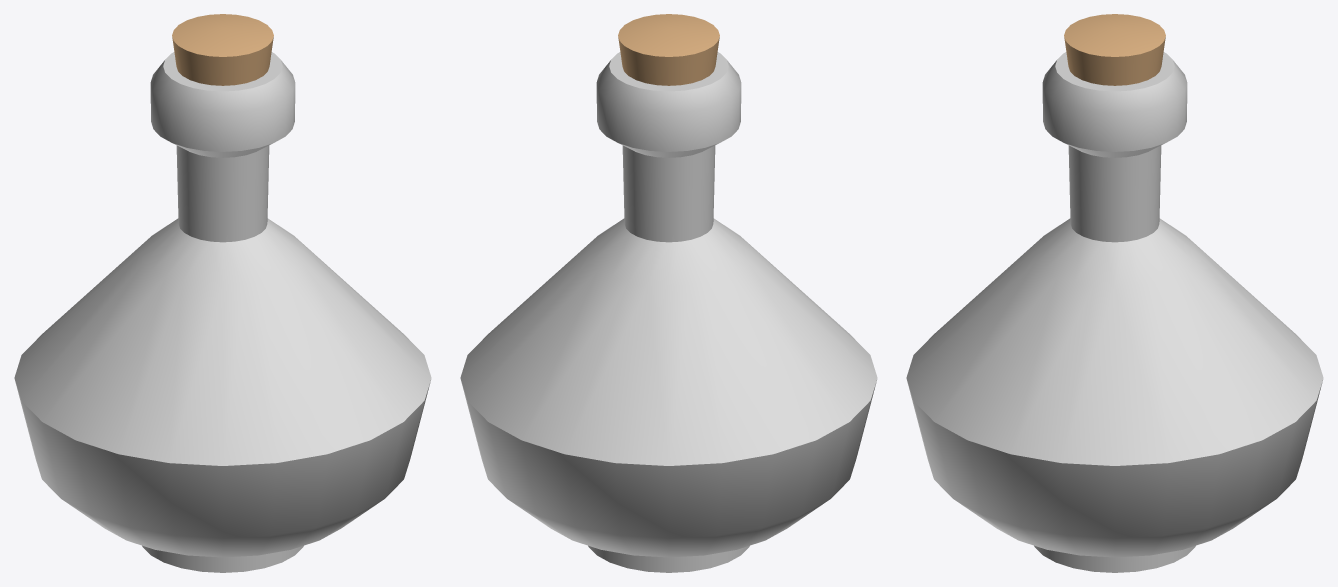
Rendered from potionMedium_red.glb.
The picture shows the model from 3 angles, left to right: view 1: azimuth 30°, elevation 25°; view 2: azimuth 150°, elevation 25°; view 3: azimuth 270°, elevation 25°; orthographic projection.
Parts seen in each view (by area): view 1: potionMedium_red; view 2: potionMedium_red; view 3: potionMedium_red.
Boxes of the visible parts, bbox=[...] form: potionMedium_red: bbox=[14, 14, 431, 572]; potionMedium_red: bbox=[460, 14, 877, 572]; potionMedium_red: bbox=[906, 14, 1323, 572].
Size of the model in its own units: 0.1396 by 0.1882 by 0.1396.
